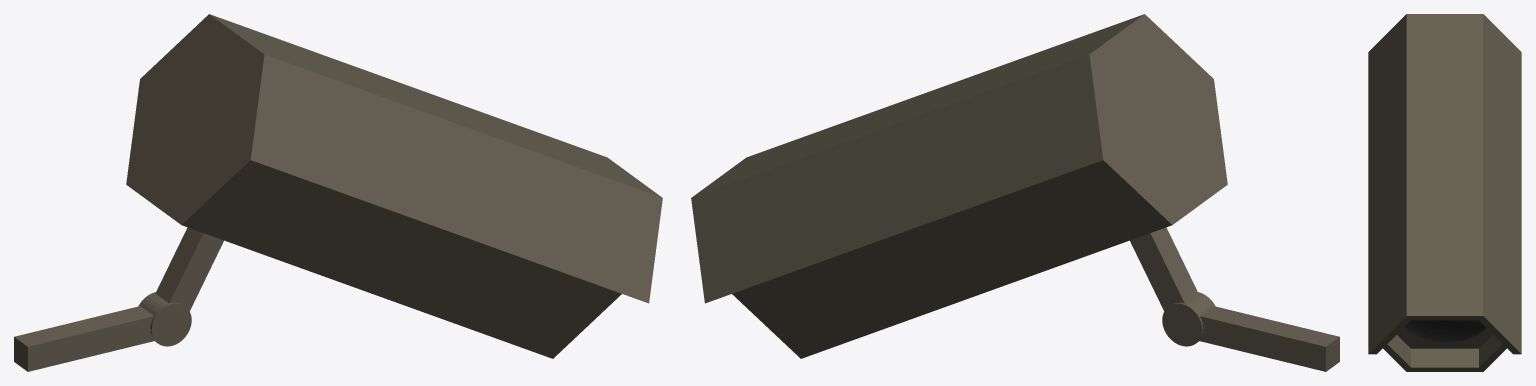
The model's file is camera.fbx.
3 views of the same model, side by side, from view 1: azimuth 30°, elevation 25°; view 2: azimuth 150°, elevation 25°; view 3: azimuth 270°, elevation 25° (orthographic). The views are drawn at different scales.
Visible parts, largest first — view 1: Cylinder.001, Cube.001, Cube, Cylinder; view 2: Cylinder.001, Cube.001, Cube, Cylinder; view 3: Cylinder.001, Sphere.
Part boxes in pixels (x1,y1,x2,y2): Cylinder.001: (126,14,662,358); Cube.001: (14,306,154,371); Cube: (155,227,223,311); Cylinder: (138,292,191,346); Cylinder.001: (691,14,1227,358); Cube.001: (1199,306,1339,371); Cube: (1130,227,1198,311); Cylinder: (1162,292,1215,346); Cylinder.001: (1368,14,1521,371); Sphere: (1404,320,1485,342).
Bounding box in the file's own units: 51.27 × 29.9 × 16.
